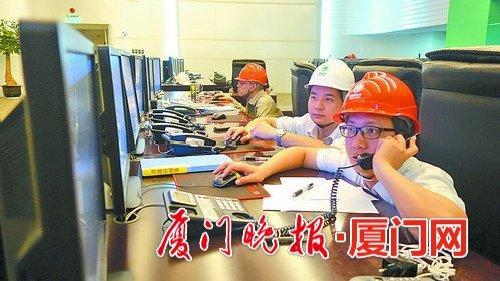helmet: (338, 76, 424, 128), (307, 59, 357, 92), (234, 61, 275, 91)
